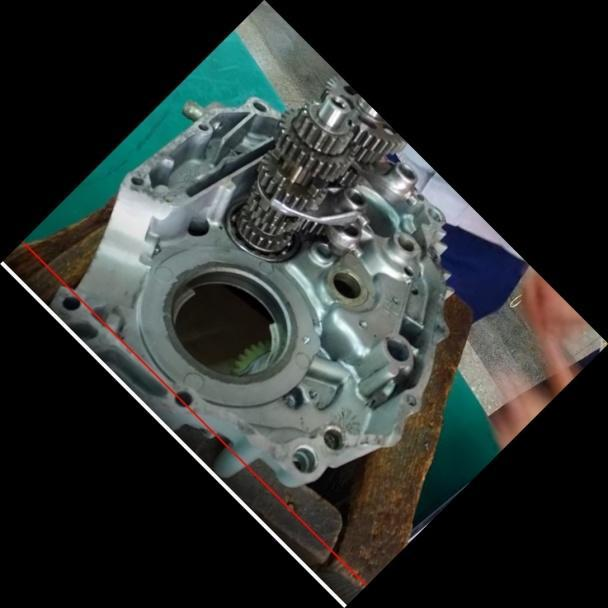hole: (400, 390, 419, 409), (355, 316, 370, 331), (304, 386, 318, 401)
